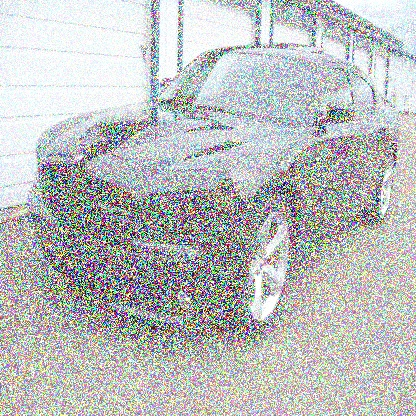Vehicle: (28, 42, 399, 341)
